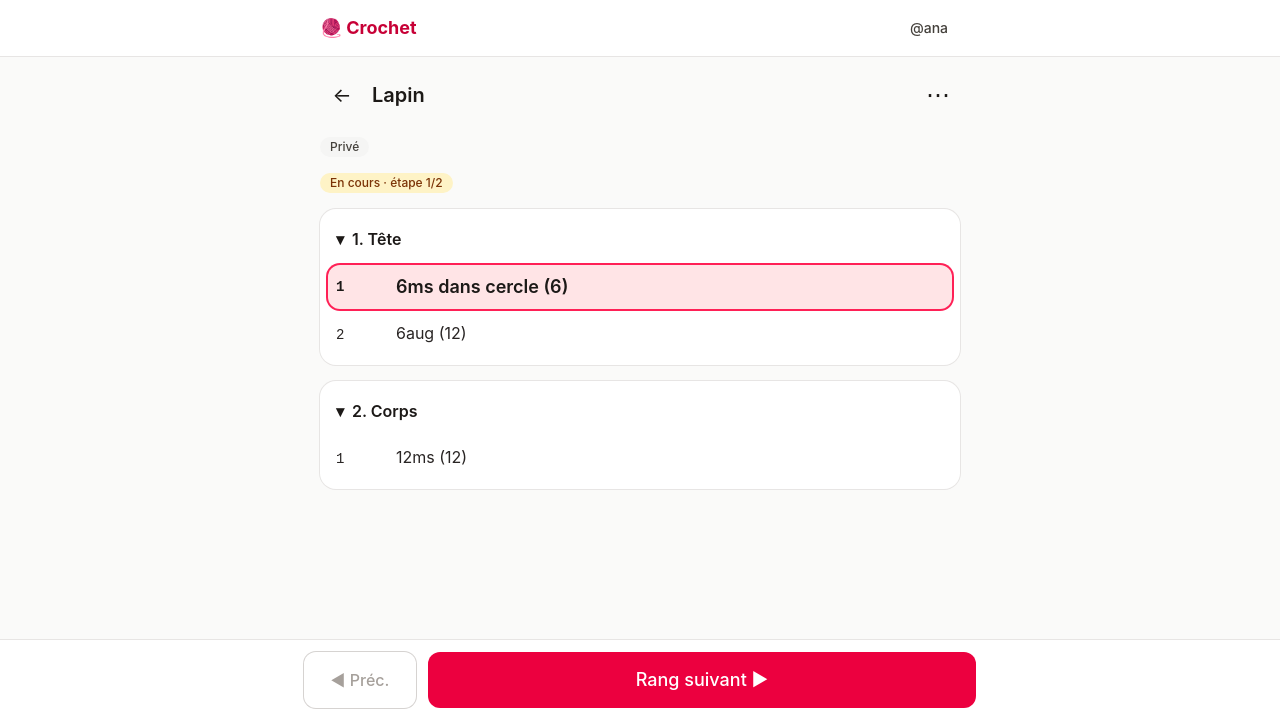
Scenario: menu du détail › termine depuis le menu au milieu du pattern
Click the button named "Actions du pattern".
click(938, 95)  # box 916,73 -> 960,117
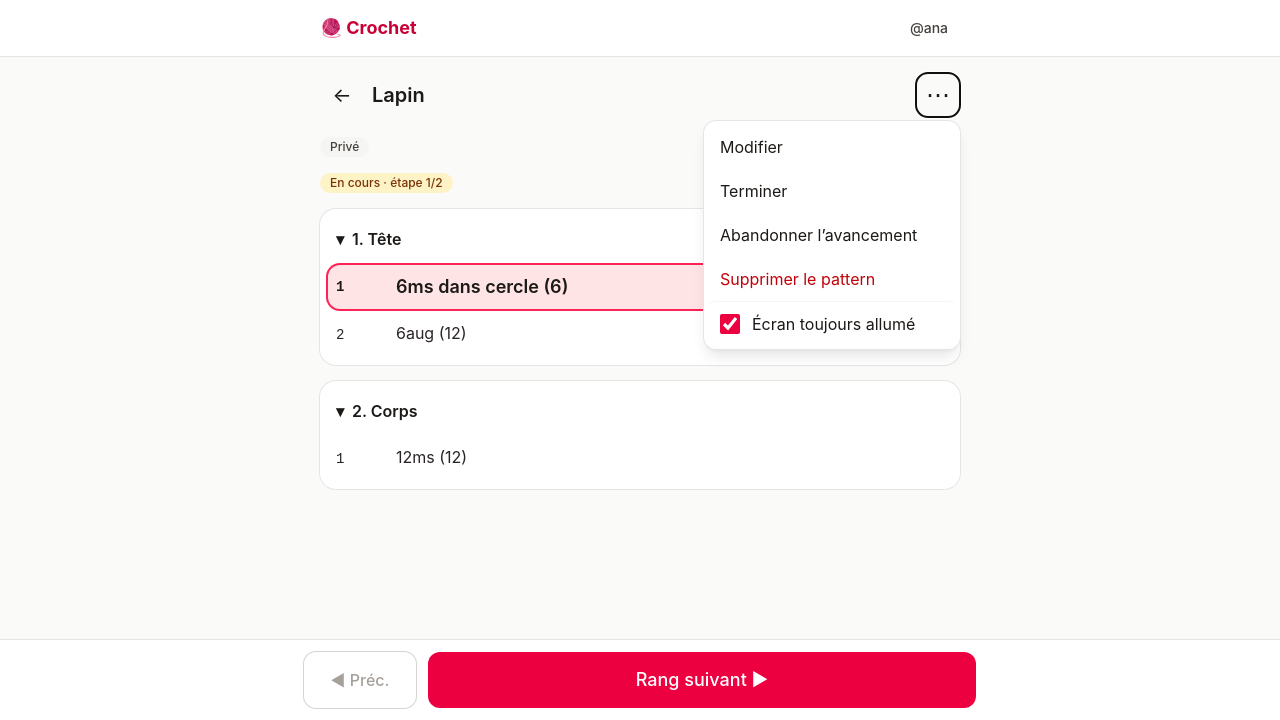
Click the menu item "Terminer".
click(832, 191)  # box 708,169 -> 956,213
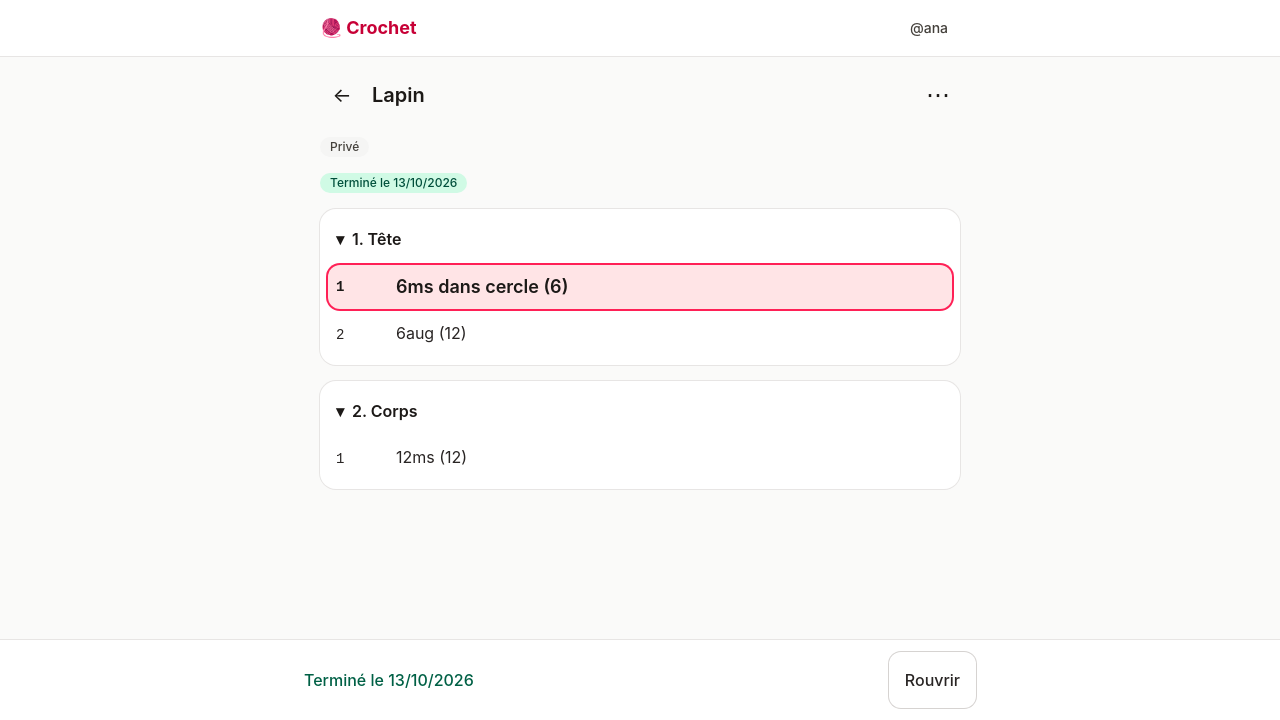
expect the button "Rouvrir" is shown: met, box 889,652 -> 976,708
